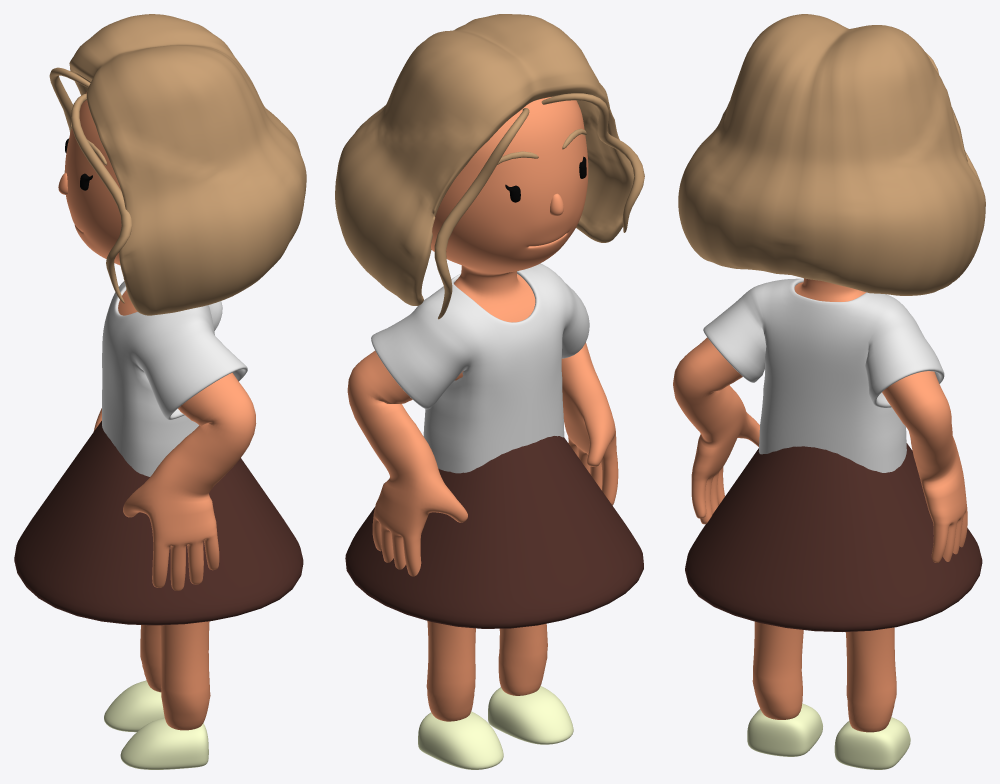
Rendered from product_designer.gltf.
3 views of the same model, side by side, from view 1: azimuth 30°, elevation 25°; view 2: azimuth 150°, elevation 25°; view 3: azimuth 270°, elevation 25° (orthographic). The views are drawn at different scales.
Parts seen in each view (by area): view 1: Hair_10, Cube.031, T-shirt.002, body.006, head.002, Cube.029, Cube.028, Cube.027, Cube.030; view 2: Hair_10, Cube.031, T-shirt.002, head.002, body.006, Cube.030, Cube.028, Cube.027, Cube.029; view 3: Hair_10, Cube.031, T-shirt.002, body.006, Cube.030, Cube.029, Cube.027, Cube.028, head.002.
Part boxes in pixels (x1,y1,x2,y2): Hair_10: [49, 14, 306, 315]; Cube.031: [14, 421, 303, 625]; T-shirt.002: [102, 281, 247, 476]; body.006: [93, 372, 256, 590]; head.002: [65, 92, 137, 315]; Cube.029: [160, 621, 210, 730]; Cube.028: [120, 718, 208, 769]; Cube.027: [104, 680, 164, 732]; Cube.030: [140, 625, 161, 692]; Hair_10: [335, 14, 644, 319]; Cube.031: [345, 436, 643, 628]; T-shirt.002: [371, 263, 589, 473]; head.002: [431, 97, 588, 322]; body.006: [347, 342, 618, 576]; Cube.030: [426, 621, 475, 721]; Cube.028: [488, 686, 573, 744]; Cube.027: [418, 711, 503, 769]; Cube.029: [498, 623, 547, 695]; Hair_10: [678, 14, 985, 295]; Cube.031: [685, 443, 982, 631]; T-shirt.002: [703, 278, 944, 472]; body.006: [673, 337, 967, 562]; Cube.030: [845, 627, 896, 732]; Cube.029: [752, 621, 803, 719]; Cube.027: [834, 717, 910, 769]; Cube.028: [747, 703, 822, 756]; head.002: [794, 278, 865, 301].
Bounding box in the file's own units: 5.06 × 13.14 × 5.19.
